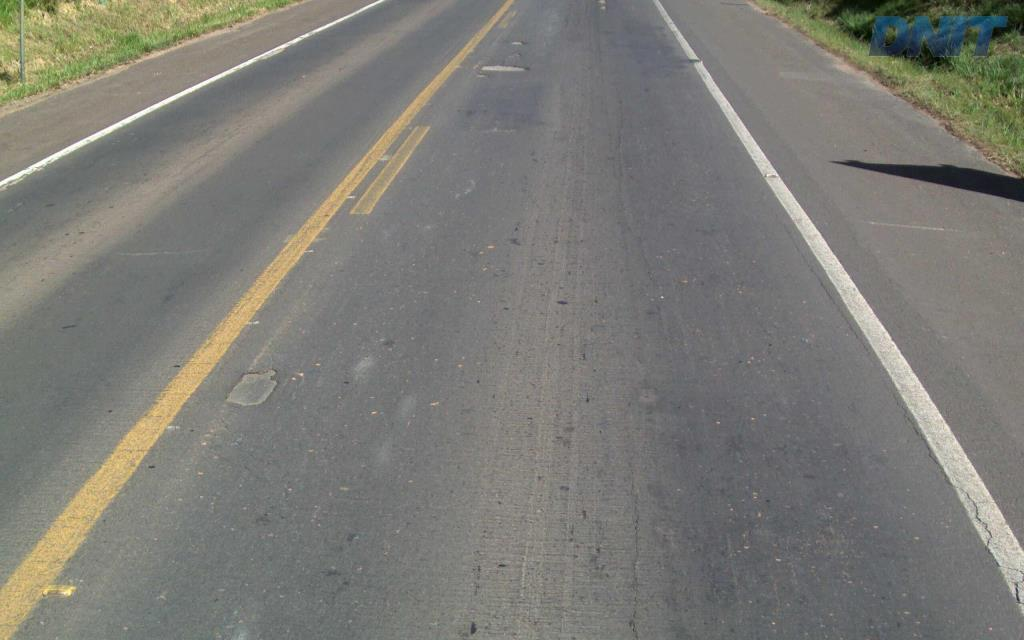pothole: (222, 365, 279, 412), (478, 59, 527, 73), (503, 38, 523, 46)
